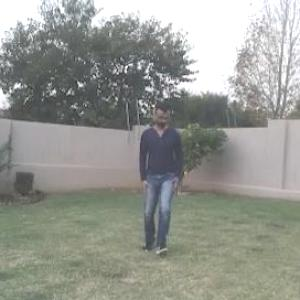follow: (138, 98, 182, 249)
